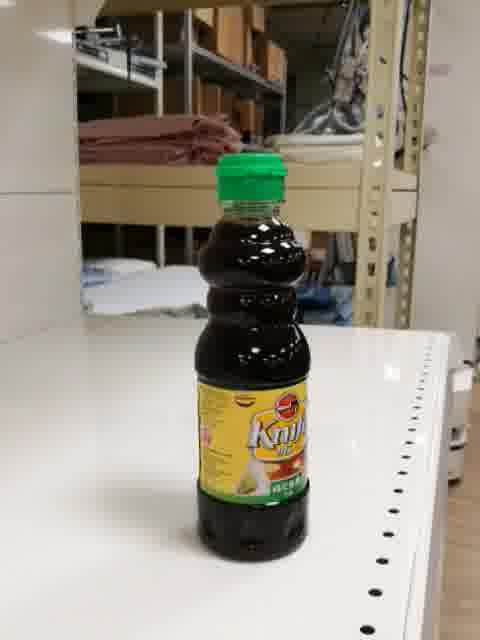cookingoil: (193, 152, 314, 564)
